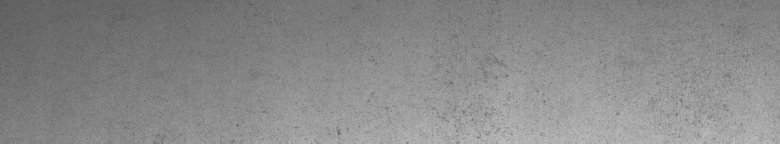ib: (667, 74, 737, 127)
